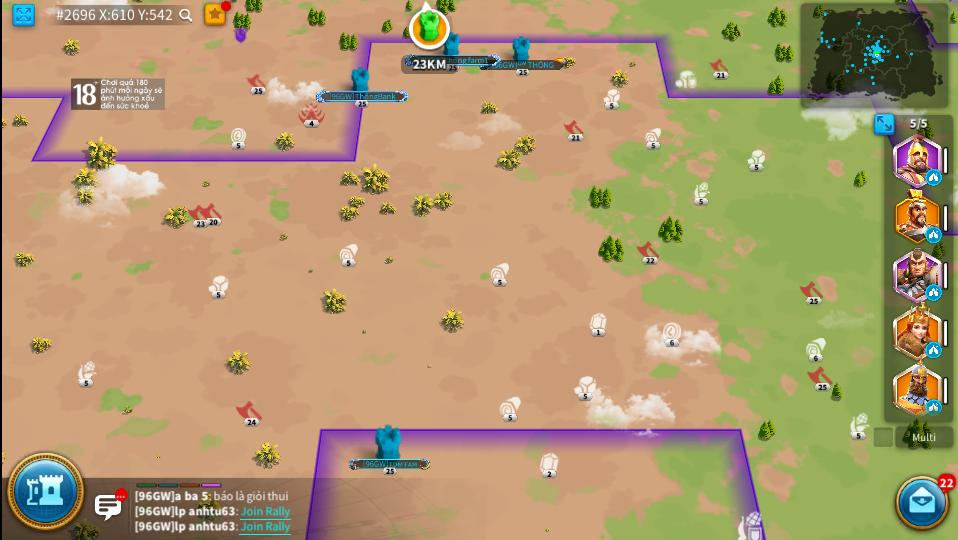gem-z-out: (540, 453, 560, 480), (591, 312, 607, 335)
march_idle: (925, 228, 942, 242), (926, 170, 940, 185), (927, 400, 941, 415), (926, 285, 940, 299), (928, 343, 940, 357)
